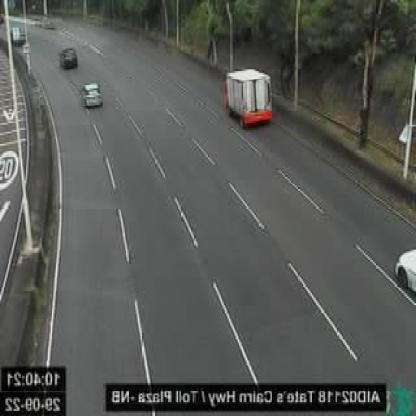Car: (387, 241, 416, 288), (56, 42, 83, 71), (81, 78, 105, 107)
Truck: (222, 59, 278, 128)
